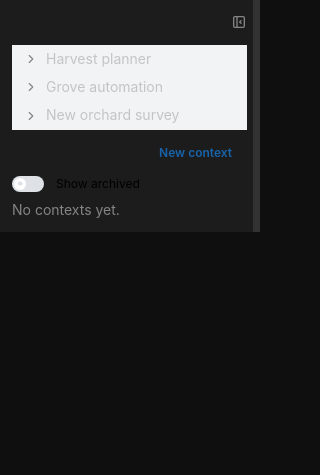
Sidebar › expanding a lead row reveals its plans, and a plan reveals its jobs
The image size is (320, 475).
Click the button with test id "expand-s2": (31,87) left=24, top=80, right=38, bottom=94
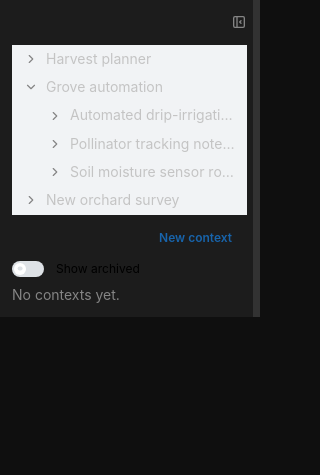
Expected: the text "Model soil moisture thresholds" is not shown
Result: the text "Automated drip-irrigation scheduling" is shown at left=70, top=105, right=235, bottom=126
Click the button with test id "expand-w3": (55,116) left=48, top=108, right=62, bottom=122
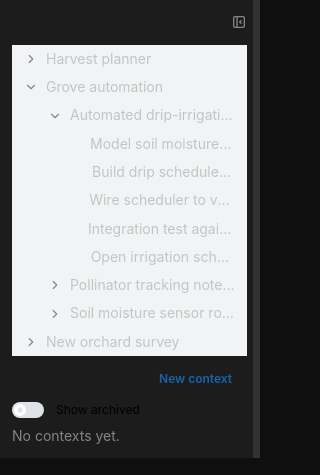
Result: the text "Model soil moisture thresholds" is shown at left=90, top=134, right=235, bottom=154
